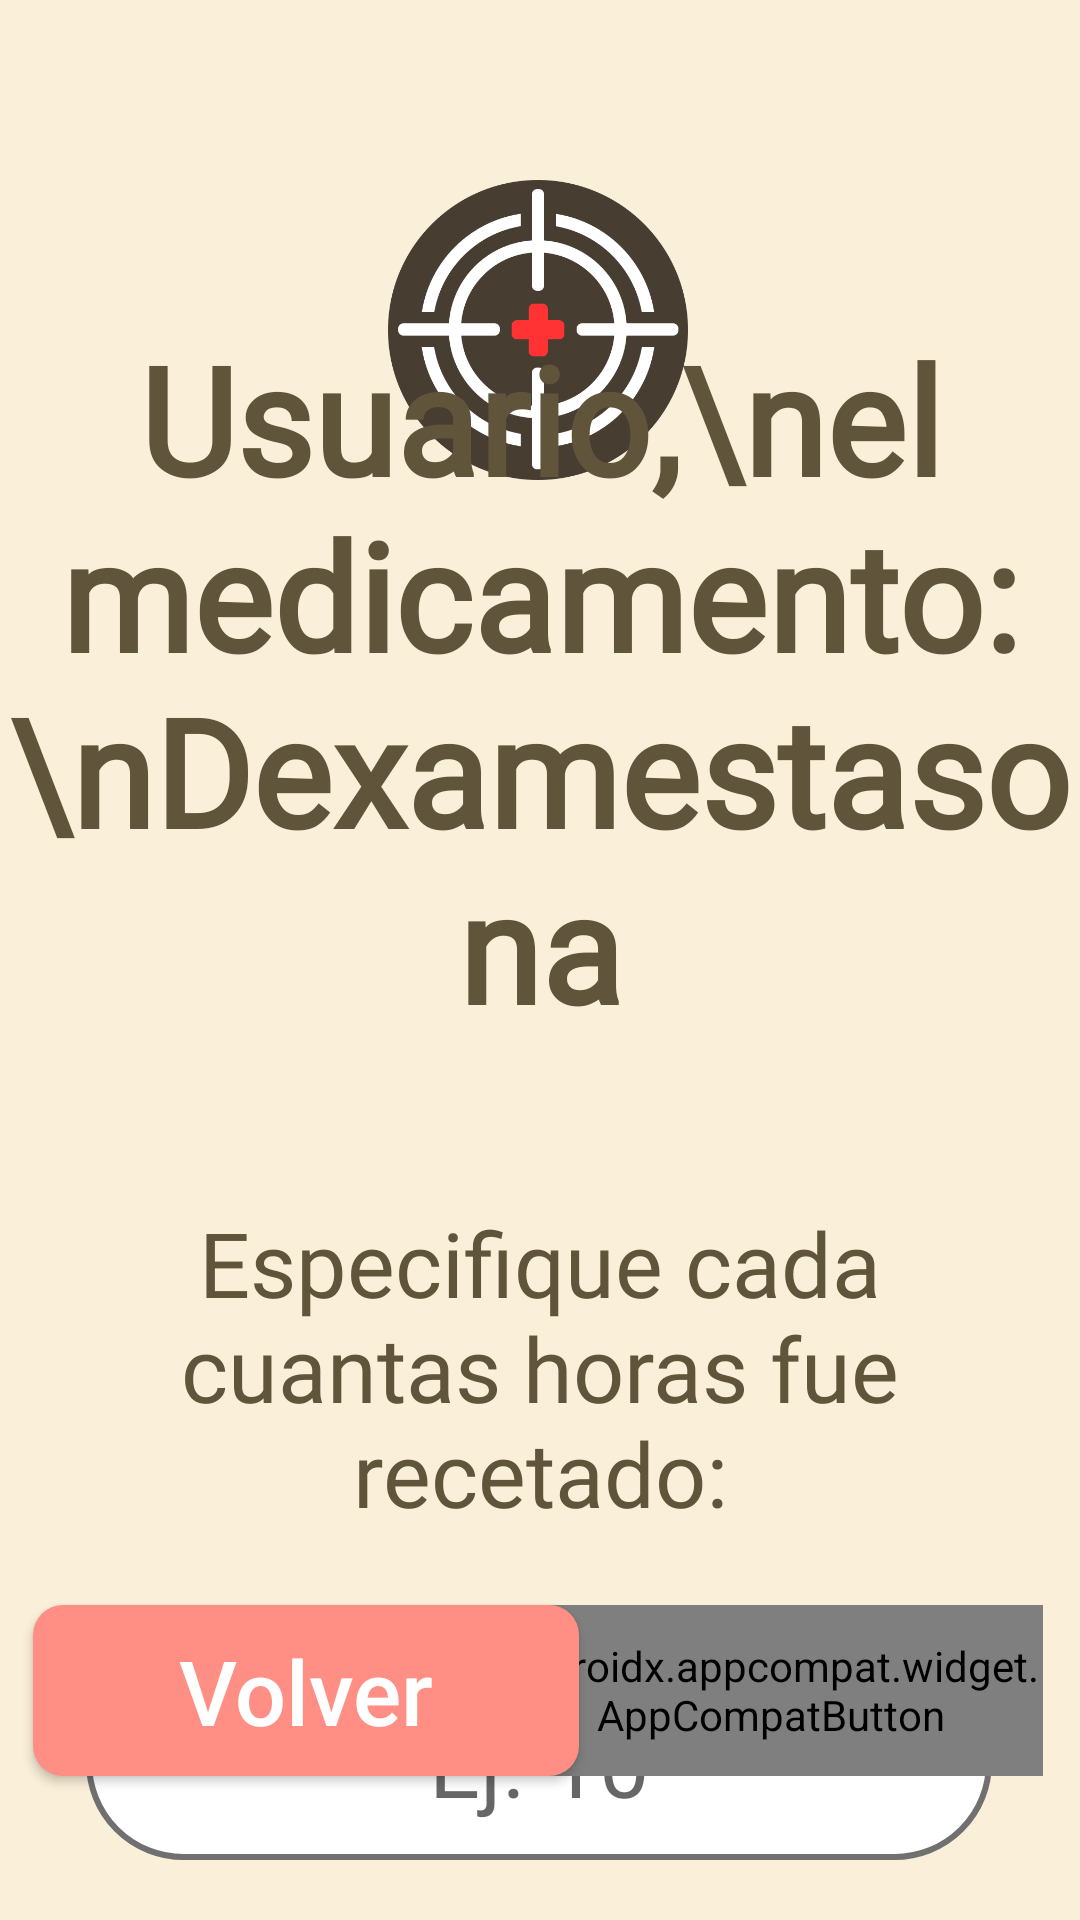

Icons on this 1080px x 1920px Android screen, each with the point to tap as (x,y):
Icono Aplicación Mira Roja: (538,330)
